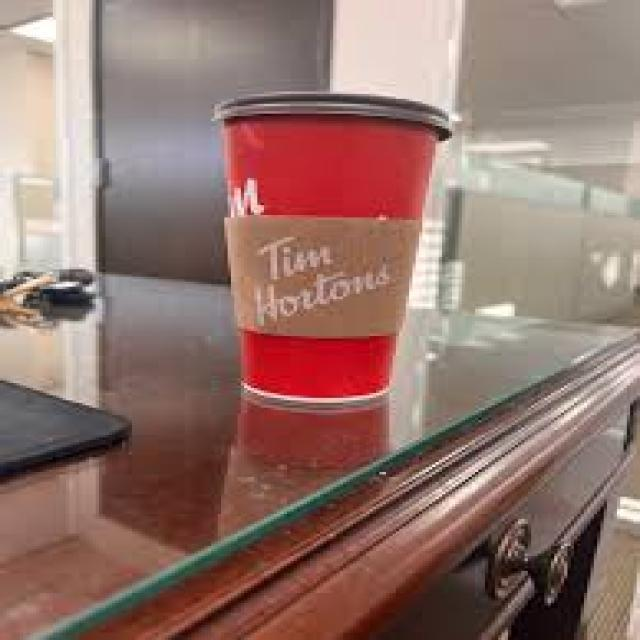timmies: (210, 86, 460, 413)
